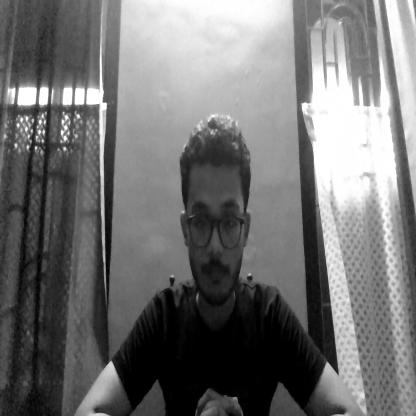Normal: (180, 116, 242, 296)
